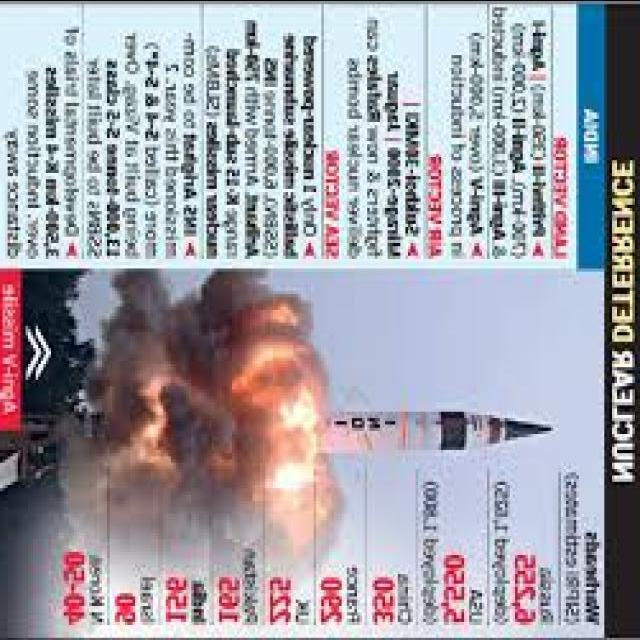Missile: (310, 398, 576, 459)
